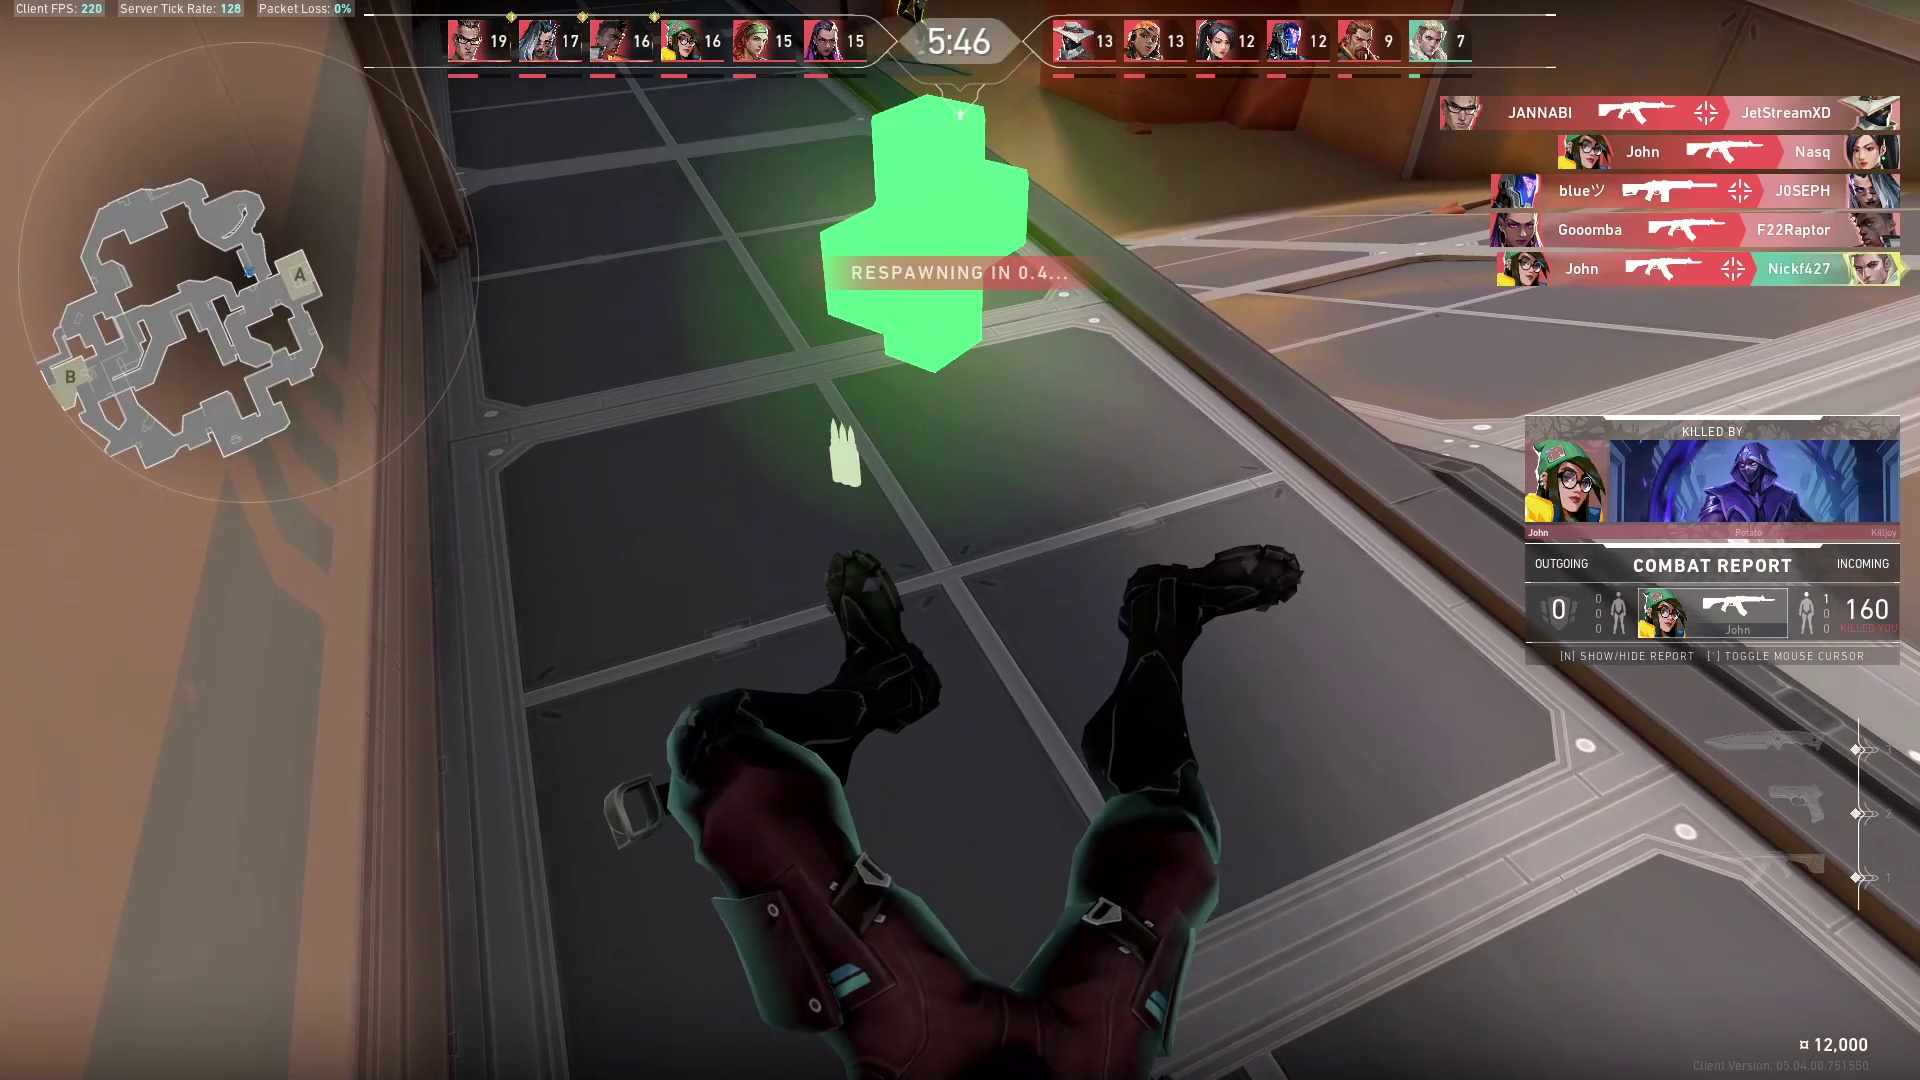enemy_gen: (899, 1, 935, 54)
